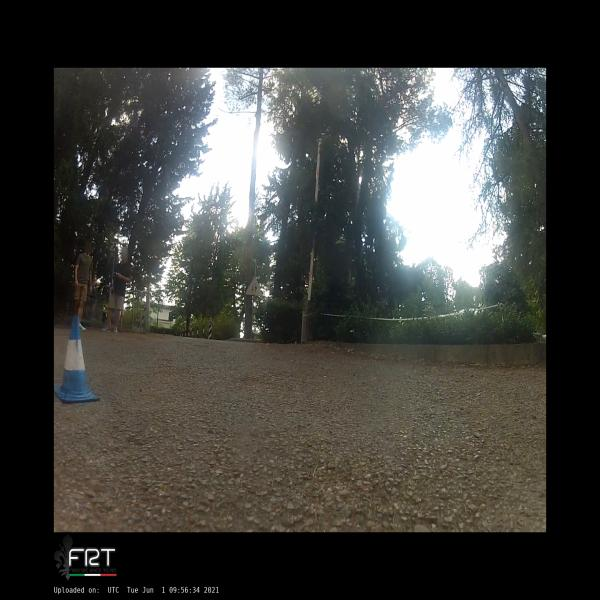blue_cone: (54, 316, 100, 402)
